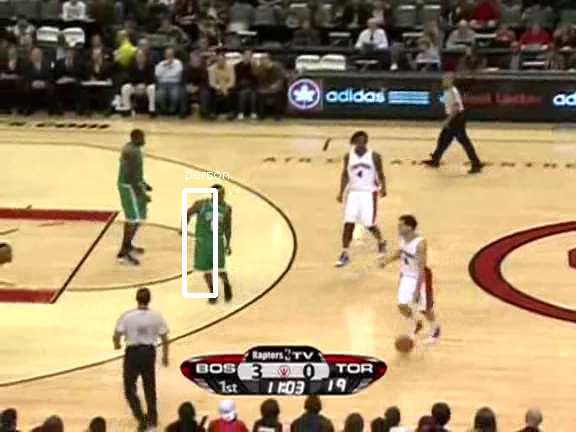person: (196, 199, 230, 280), (195, 199, 229, 280), (197, 199, 231, 280), (196, 198, 230, 279), (196, 200, 230, 281)
target_negative: (180, 149, 493, 195), (418, 291, 532, 407), (475, 288, 572, 359), (93, 4, 118, 136), (397, 375, 447, 409), (424, 412, 457, 420)
